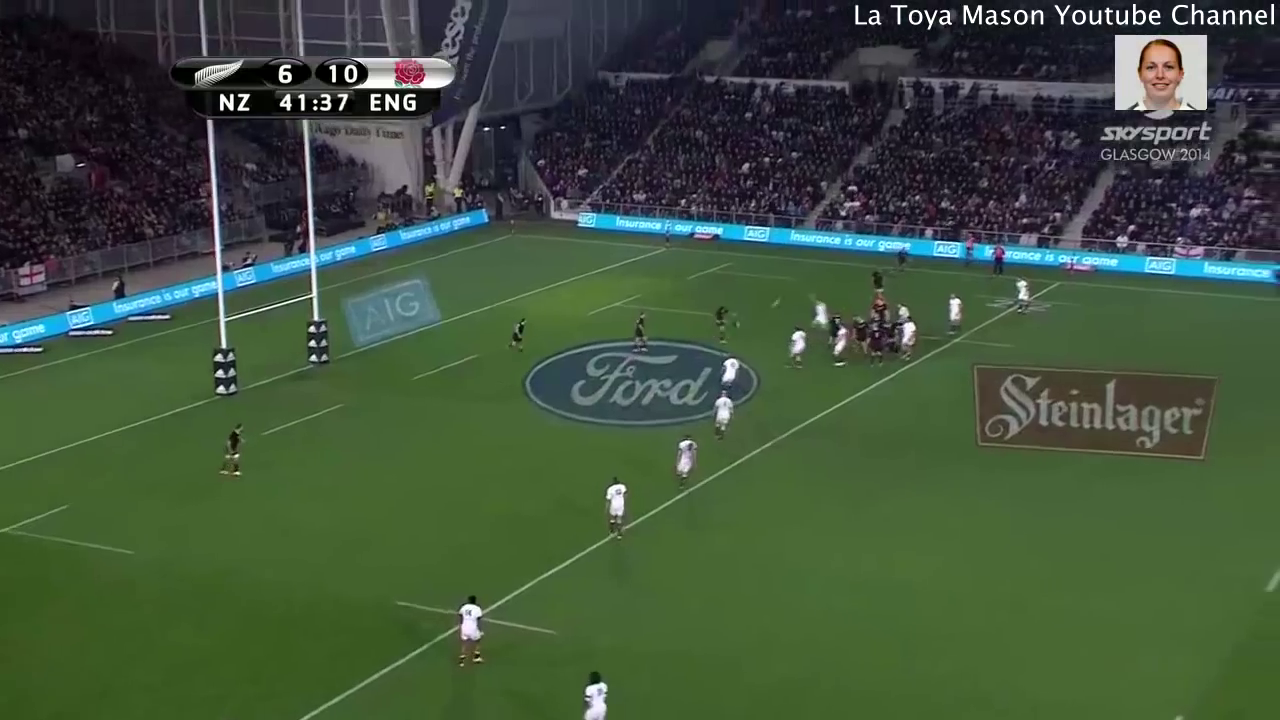ball: (769, 292, 784, 313)
player: (453, 596, 490, 667), (599, 473, 634, 543), (212, 420, 252, 481), (577, 665, 615, 720), (671, 432, 701, 496), (708, 389, 739, 438), (709, 301, 737, 348), (783, 324, 807, 372), (505, 314, 533, 352), (893, 316, 917, 360), (941, 293, 964, 334), (829, 321, 849, 368), (628, 312, 649, 356), (719, 352, 740, 395), (1012, 276, 1035, 312), (868, 321, 886, 367), (809, 295, 828, 334), (850, 313, 866, 355), (865, 266, 887, 289), (870, 296, 888, 315), (895, 300, 910, 320), (825, 309, 838, 327)
post: (189, 126, 333, 403)
